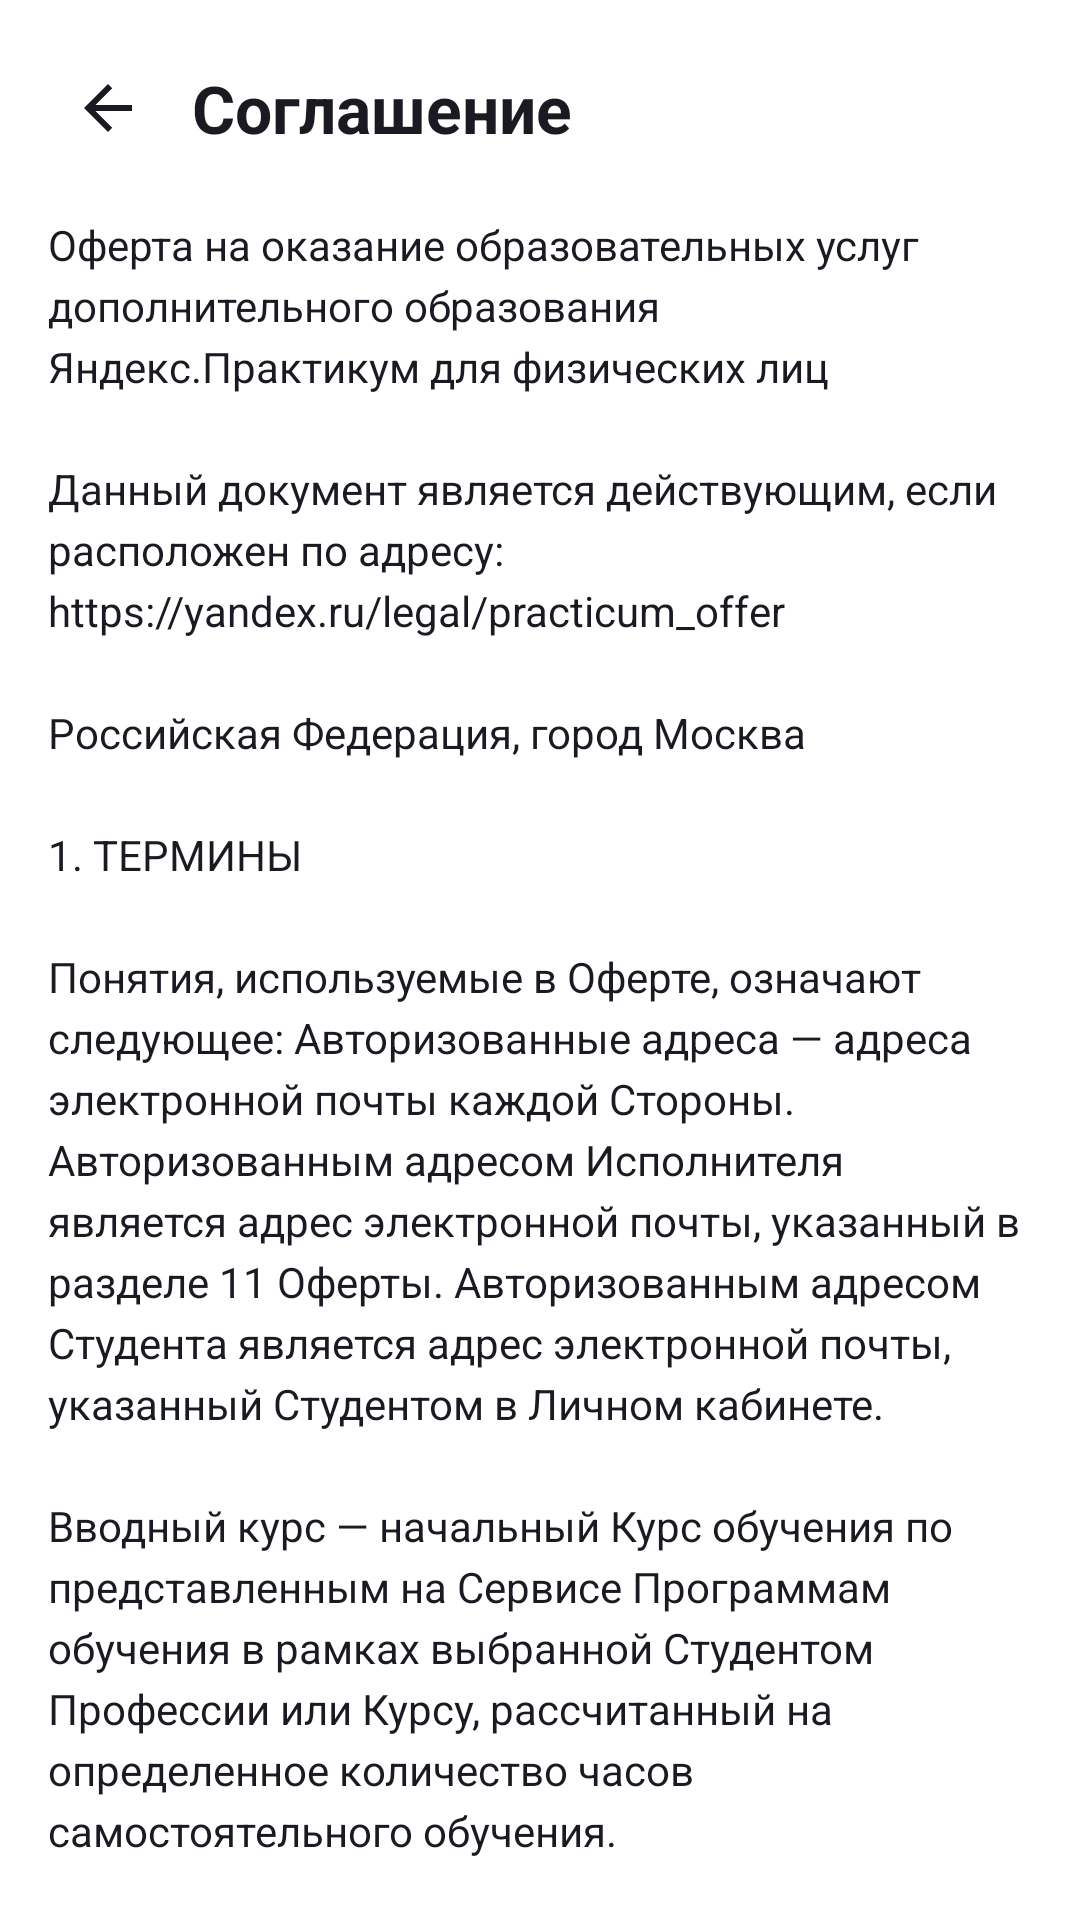

Screen size 1080×1920. Icon name, then its center in pixels as (x,y):
Назад: (108,108)
